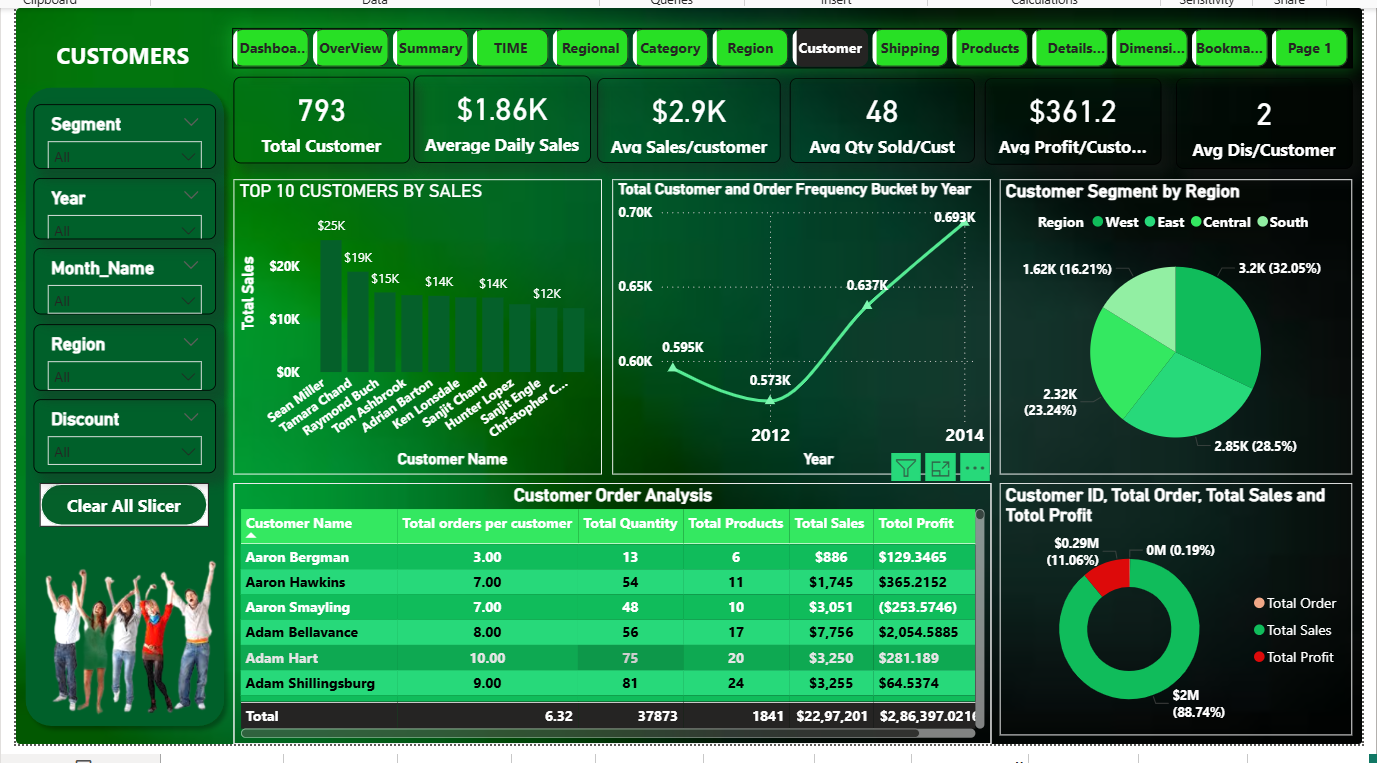

What the dashboard file says about the page in this screenshot:
{"tool":"powerbi","page":{"name":"Customer","canvas":[1280,700],"ordinal":7},"visuals":[{"type":"image","box":[0,0,1280.4,700.2],"z":0},{"type":"shape","box":[0,66.6,206.9,625.3],"z":1000},{"type":"textbox","box":[26.2,83.2,108.2,44],"z":2000},{"type":"textbox","box":[13.1,25,177.1,41.6],"z":3000},{"type":"slicer","fields":{"Values":["Superstore.Segment"]},"box":[16.2,91.2,173.8,61.2],"z":4000},{"type":"slicer","fields":{"Values":["date_table.Month_Name"]},"box":[16.6,228.7,173.6,63],"z":5000},{"type":"slicer","fields":{"Values":["date_table.Year"]},"box":[16.2,161.2,173.8,58.8],"z":6000},{"type":"slicer","fields":{"Values":["Superstore.Region"]},"box":[16.6,300.4,173.6,63],"z":7000},{"type":"shape","box":[22.6,451.8,160.5,41.6],"z":8000},{"type":"card","fields":{"Values":["All measures.Total Customer"]},"box":[206.9,64.9,167.6,82],"z":9000},{"type":"card","fields":{"Values":["All measures.Avg Sales/customer"]},"box":[552.8,66.6,174.8,80.8],"z":10000},{"type":"card","fields":{"Values":["All measures.Avg Qty Sold/Cust"]},"box":[735.9,66.6,176,80.8],"z":11000},{"type":"card","fields":{"Values":["All measures.Avg Profit/Customer"]},"box":[921.4,66.6,167.6,82],"z":12000},{"type":"card","fields":{"Values":["All measures.Average Daily Sales"]},"box":[378.1,64.2,168.8,83.2],"z":13000},{"type":"columnChart","title":"TOP 10 CUSTOMERS BY SALES","fields":{"Category":["Superstore.Customer Name"],"Y":["All measures.Total Sales"]},"box":[206.9,162.9,350.7,280.6],"z":14000},{"type":"card","fields":{"Values":["All measures.Avg Dis/Customer"]},"box":[1103.3,66.6,167.6,86.8],"z":15000},{"type":"slicer","fields":{"Values":["Superstore.Discount"]},"box":[16.2,372.5,173.8,70],"z":16000},{"type":"lineChart","fields":{"Category":["date_table.Year"],"Y":["All measures.Total Customer"]},"box":[567.1,162.9,360.2,280.6],"z":17000},{"type":"tableEx","title":"Customer Order Analysis","fields":{"Values":["Superstore.Customer Name","All measures.Total orders per customer","All measures.Total Quantity","All measures.Total Products","All measures.Total Sales","All measures.Totol Profit"]},"box":[206.9,451.8,720.5,248.5],"z":18000},{"type":"donutChart","title":"Customer ID, Total Order, Total Sales and Totol Profit","fields":{"Y":["All measures.Total Order","All measures.Total Sales","All measures.Totol Profit"]},"box":[935.6,451.8,335.3,240.2],"z":19000},{"type":"pieChart","fields":{"Category":["Superstore.Region"],"Y":["CountNonNull(Superstore.Customer Segment)"]},"box":[935.6,162.9,335.3,280.6],"z":20000},{"type":"image","box":[13.1,505.3,192.6,185.5],"z":21000},{"type":"pageNavigator","box":[205.7,19,1065.2,38],"z":22000}]}

Visuals, with their boxes on the page's 1280x700 design canvas (x1, y1, x2, y2). These are canvas units, not pixel positions in the 1377x763 screenshot, which may show the page scaled, cropped or inside an application window:
image: (left=0, top=0, right=1280, bottom=700)
shape: (left=0, top=67, right=207, bottom=692)
textbox: (left=26, top=83, right=134, bottom=127)
textbox: (left=13, top=25, right=190, bottom=67)
slicer - Superstore.Segment: (left=16, top=91, right=190, bottom=152)
slicer - date_table.Month_Name: (left=17, top=229, right=190, bottom=292)
slicer - date_table.Year: (left=16, top=161, right=190, bottom=220)
slicer - Superstore.Region: (left=17, top=300, right=190, bottom=363)
shape: (left=23, top=452, right=183, bottom=493)
card - All measures.Total Customer: (left=207, top=65, right=374, bottom=147)
card - All measures.Avg Sales/customer: (left=553, top=67, right=728, bottom=147)
card - All measures.Avg Qty Sold/Cust: (left=736, top=67, right=912, bottom=147)
card - All measures.Avg Profit/Customer: (left=921, top=67, right=1089, bottom=149)
card - All measures.Average Daily Sales: (left=378, top=64, right=547, bottom=147)
"TOP 10 CUSTOMERS BY SALES" columnChart: (left=207, top=163, right=558, bottom=444)
card - All measures.Avg Dis/Customer: (left=1103, top=67, right=1271, bottom=153)
slicer - Superstore.Discount: (left=16, top=372, right=190, bottom=442)
lineChart - date_table.Year x All measures.Total Customer: (left=567, top=163, right=927, bottom=444)
"Customer Order Analysis" tableEx: (left=207, top=452, right=927, bottom=700)
"Customer ID, Total Order, Total Sales and Totol Profit" donutChart: (left=936, top=452, right=1271, bottom=692)
pieChart - Superstore.Region x CountNonNull(Superstore.Customer Segment): (left=936, top=163, right=1271, bottom=444)
image: (left=13, top=505, right=206, bottom=691)
pageNavigator: (left=206, top=19, right=1271, bottom=57)
